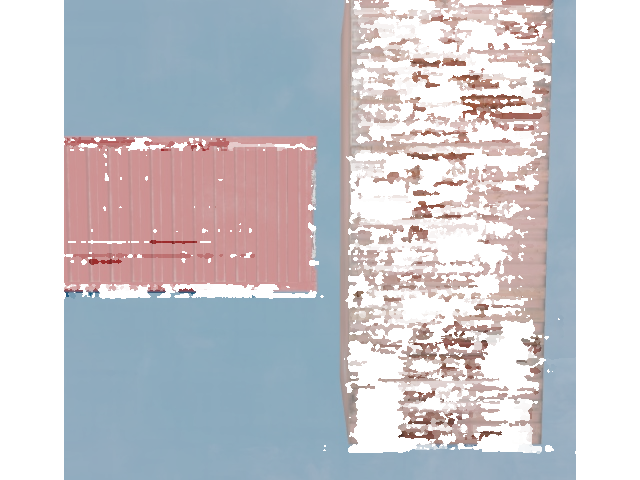container4: (337, 0, 551, 451)
container5: (0, 136, 324, 296)
